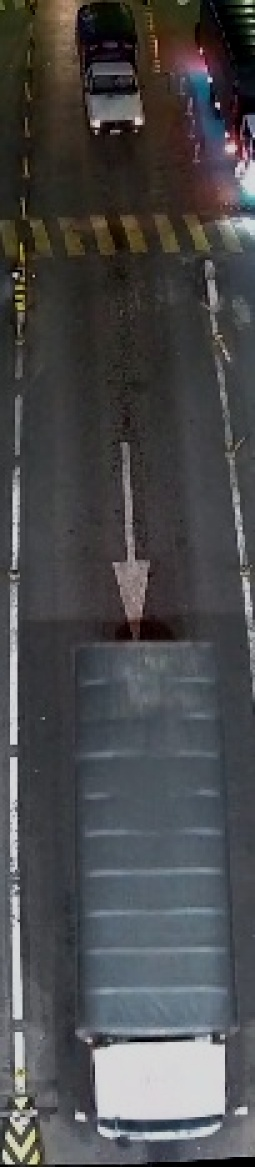car: (69, 0, 163, 148)
truck: (49, 619, 249, 1140), (183, 0, 254, 209)
